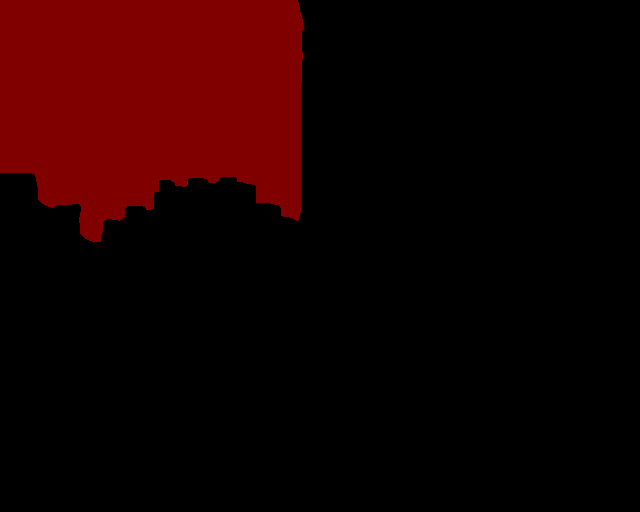Sky: (1, 1, 305, 242)
